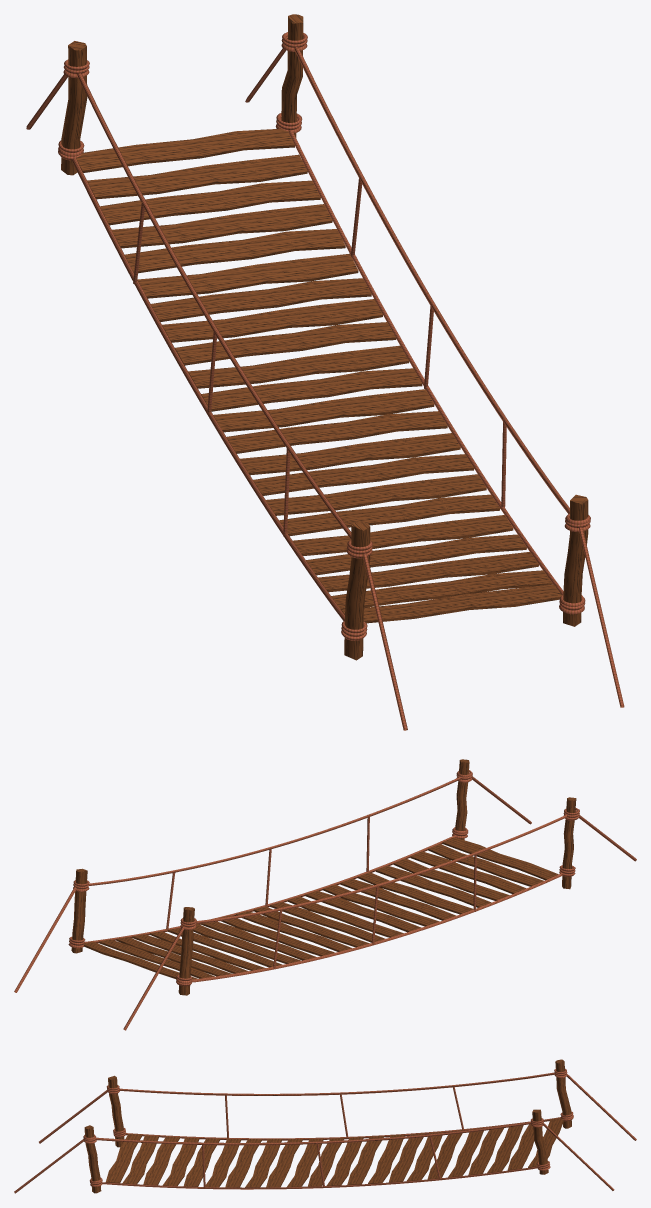
File: ShortBridge_1.fbx
3 renders of one model, top to bottom at view 1: azimuth 30°, elevation 25°; view 2: azimuth 150°, elevation 25°; view 3: azimuth 270°, elevation 25°, orthographic. The views are drawn at different scales.
Parts seen in each view (by area): view 1: polySurface15; view 2: polySurface15; view 3: polySurface15.
Boxes of the visible parts, box(x1,y1,x2,y2) form: polySurface15: box(26, 14, 624, 730); polySurface15: box(14, 759, 636, 1030); polySurface15: box(14, 1059, 636, 1193).
Size of the model in its own units: 7.36 by 4.44 by 18.93.
